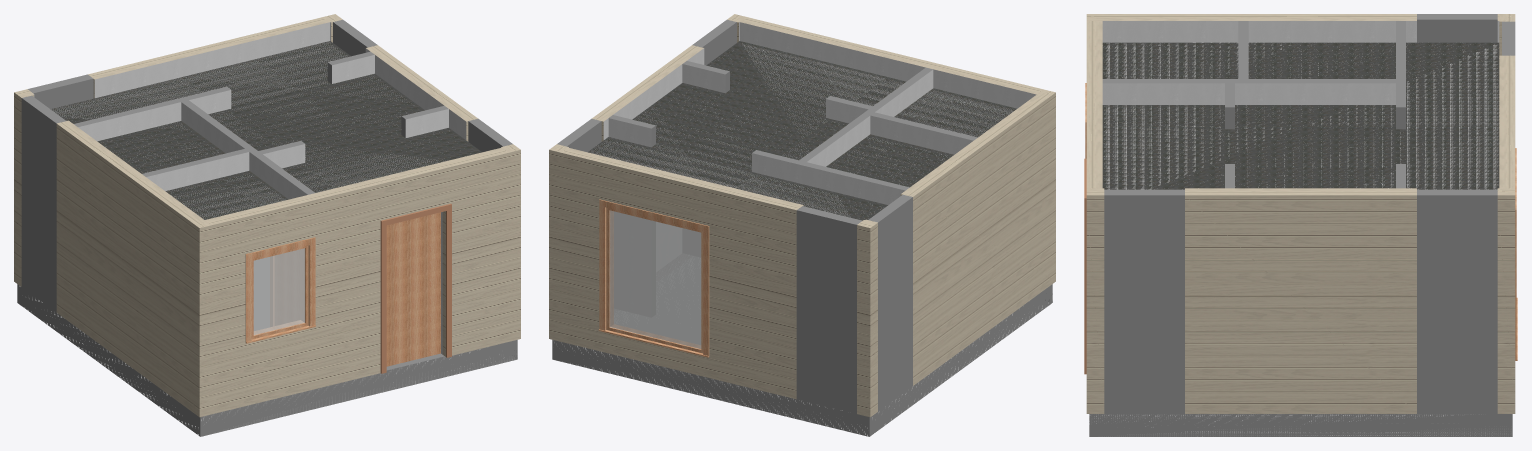
Rendered from Annex_tag.glb.
The picture shows the model from 3 angles, left to right: view 1: azimuth 30°, elevation 25°; view 2: azimuth 150°, elevation 25°; view 3: azimuth 270°, elevation 25°; orthographic projection. The views are drawn at different scales.
Visible parts, largest first — view 1: External_Wall13, External_Wall11, Roof4, Floor3, Single-Flush_578859, Basic_Wall_588912, Fixed_with_Trim_588583, Basic_Wall_571462, Basic_Wall_571859, Compound_Ceiling_571524, External_Wall15, Basic_Wall_572077 (+13 smaller); view 2: External_Wall9, Roof4, External_Wall11, Fixed_with_Trim_586563, Floor3, Basic_Wall_589084, Basic_Wall_588912, Basic_Wall_571368, Basic_Wall_572499, External_Wall10, Basic_Wall_571859, Compound_Ceiling_571524 (+11 smaller); view 3: External_Wall14, Roof4, Basic_Wall_591526, Basic_Wall_592455, Floor3, Basic_Wall_571859, Compound_Ceiling_571524, Basic_Wall_571305, External_Wall16, External_Wall15, External_Wall13, Basic_Wall_588912 (+9 smaller).
Part boxes in pixels (<box>): External_Wall13: <box>205,147,508,414</box>; External_Wall11: <box>56,120,211,417</box>; Roof4: <box>50,41,481,219</box>; Floor3: <box>17,284,517,436</box>; Single-Flush_578859: <box>380,203,451,373</box>; Basic_Wall_588912: <box>21,95,65,312</box>; Fixed_with_Trim_588583: <box>245,237,315,343</box>; Basic_Wall_571462: <box>94,22,330,98</box>; Basic_Wall_571859: <box>177,97,314,330</box>; Compound_Ceiling_571524: <box>51,42,443,218</box>; External_Wall15: <box>501,144,520,341</box>; Basic_Wall_572077: <box>74,99,181,141</box>; External_Wall9: <box>561,147,803,399</box>; Roof4: <box>588,41,1016,220</box>; External_Wall11: <box>900,89,1055,385</box>; Fixed_with_Trim_586563: <box>598,199,709,357</box>; Floor3: <box>552,253,1052,436</box>; Basic_Wall_589084: <box>796,206,862,413</box>; Basic_Wall_588912: <box>868,194,912,411</box>; Basic_Wall_571368: <box>739,22,1036,108</box>; Basic_Wall_572499: <box>608,115,655,317</box>; External_Wall10: <box>857,220,877,417</box>; Basic_Wall_571859: <box>794,67,933,183</box>; Compound_Ceiling_571524: <box>595,41,1012,215</box>; External_Wall14: <box>1185,188,1416,413</box>; Roof4: <box>1102,42,1499,189</box>; Basic_Wall_591526: <box>1104,189,1184,413</box>; Basic_Wall_592455: <box>1417,189,1497,413</box>; Floor3: <box>1089,414,1512,436</box>; Basic_Wall_571859: <box>1102,79,1405,107</box>; Compound_Ceiling_571524: <box>1104,42,1498,189</box>; Basic_Wall_571305: <box>1102,21,1416,44</box>; External_Wall16: <box>1497,188,1515,413</box>; External_Wall15: <box>1086,188,1104,413</box>; External_Wall13: <box>1086,21,1102,188</box>; Basic_Wall_588912: <box>1417,14,1497,42</box>.
Bounding box in the file's own units: 4.88 × 3.05 × 4.93.
26 materials, 12 textured.
